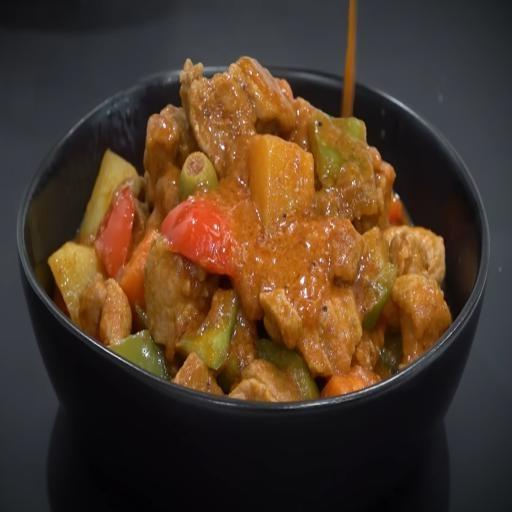pork caldereta: (50, 60, 452, 399)
